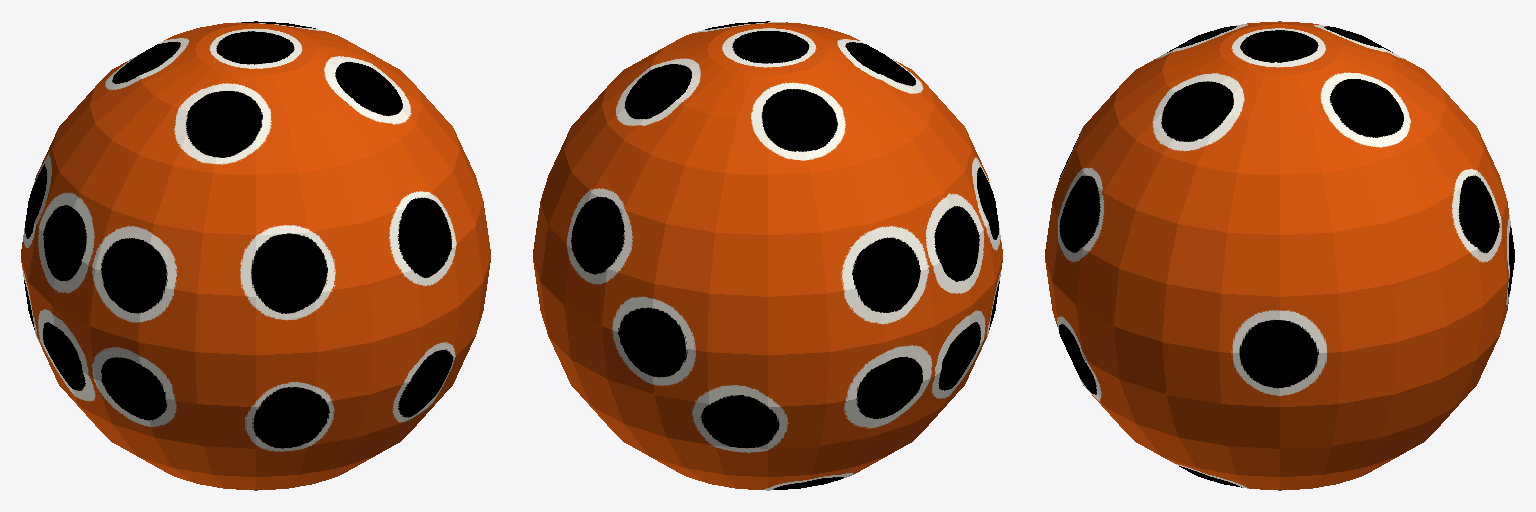
The picture shows the model from 3 angles: view 1: azimuth 30°, elevation 25°; view 2: azimuth 150°, elevation 25°; view 3: azimuth 270°, elevation 25°; orthographic projection.
Parts seen in each view (by area): view 1: Sphere_None; view 2: Sphere_None; view 3: Sphere_None.
Part boxes in pixels (left/top/right/bottom): Sphere_None: left=21, top=21, right=490, bottom=490; Sphere_None: left=533, top=21, right=1002, bottom=490; Sphere_None: left=1045, top=21, right=1514, bottom=490.
Size of the model in its own units: 2 by 2 by 2.
1 materials, 1 textured.